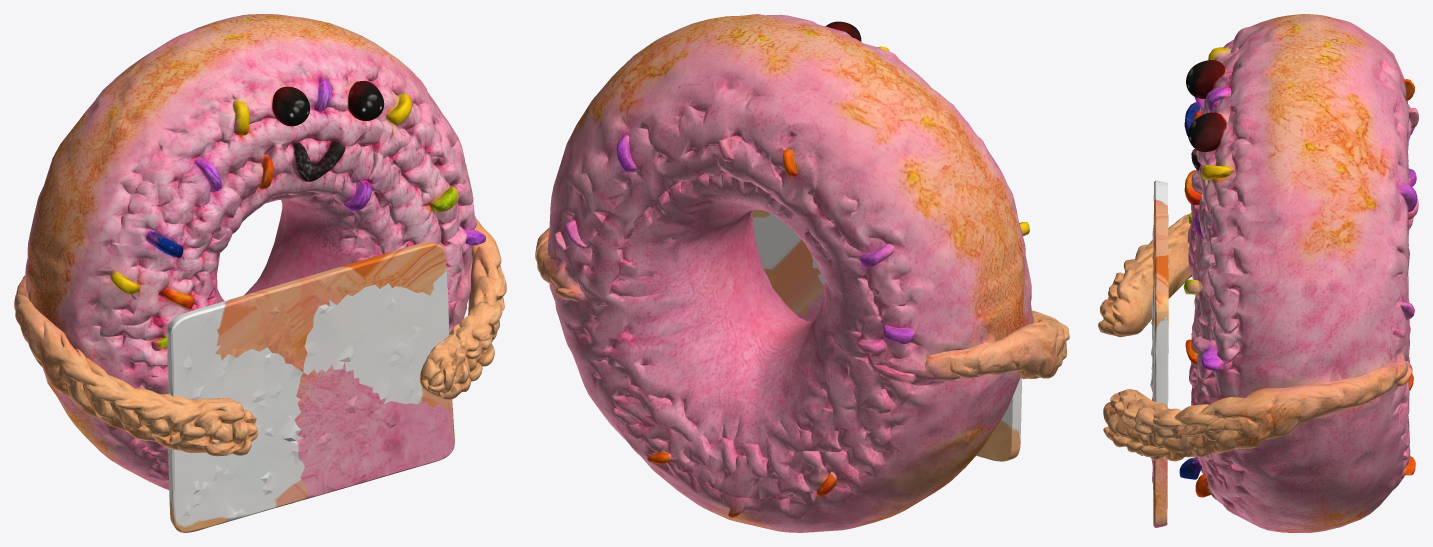
Rendered from donut.glb.
3 renders of one model, left to right at view 1: azimuth 30°, elevation 25°; view 2: azimuth 150°, elevation 25°; view 3: azimuth 270°, elevation 25°, orthographic. The views are drawn at different scales.
Visible parts, largest first — view 1: body, card, handL, handR, eyeL, eyeR; view 2: body, card, handL; view 3: body, handR, handL, card, eyeR, eyeL.
Boxes of the visible parts, bbox=[...] form: body: bbox=[16, 14, 485, 489]; card: bbox=[167, 242, 454, 532]; handL: bbox=[14, 294, 257, 456]; handR: bbox=[420, 218, 506, 399]; eyeL: bbox=[272, 86, 309, 126]; eyeR: bbox=[348, 81, 384, 120]; body: bbox=[536, 14, 1033, 532]; card: bbox=[752, 210, 1021, 461]; handL: bbox=[977, 310, 1069, 379]; body: bbox=[1179, 14, 1418, 532]; handR: bbox=[1103, 382, 1361, 461]; handL: bbox=[1098, 213, 1191, 337]; card: bbox=[1150, 180, 1168, 527]; eyeR: bbox=[1188, 112, 1225, 151]; eyeL: bbox=[1186, 60, 1224, 98].
Bounding box in the file's own units: 1.9 × 1.82 × 1.12.
Materials: 6 (6 with a texture image).
